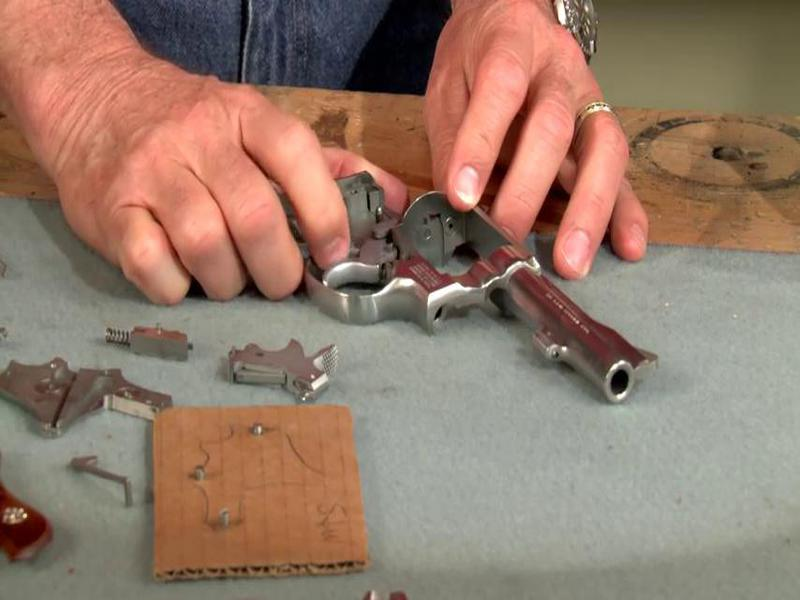Revolver: (269, 125, 651, 436)
